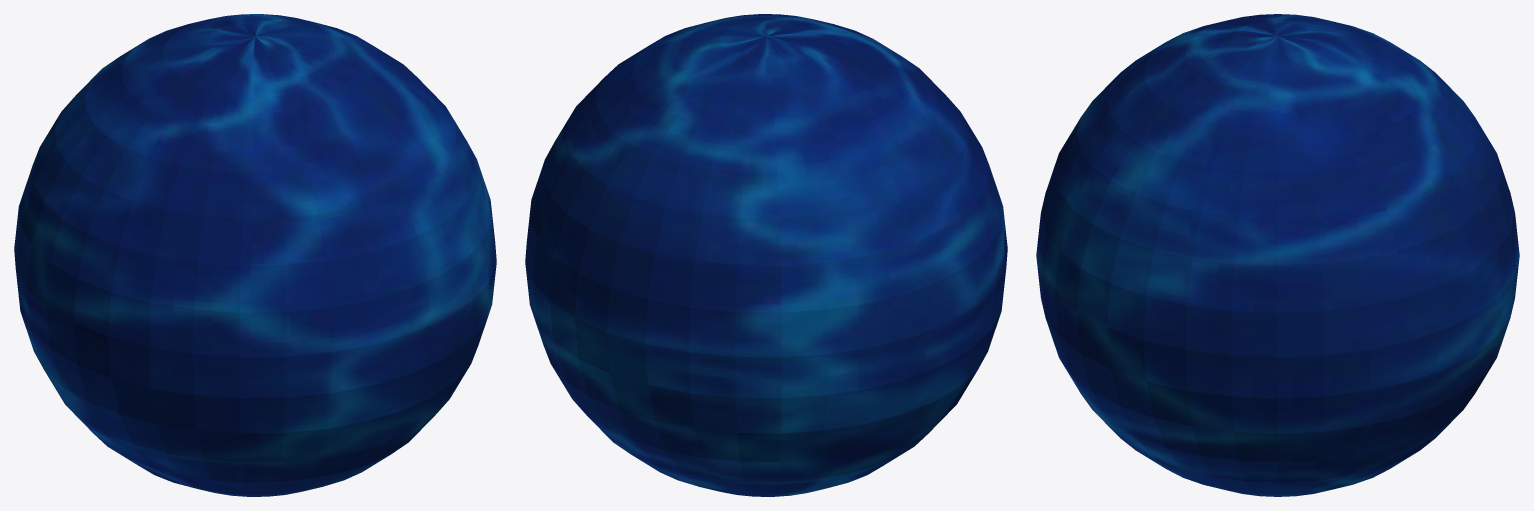
The model's file is terepot2.fbx.
3 views of the same model, side by side, from view 1: azimuth 30°, elevation 25°; view 2: azimuth 150°, elevation 25°; view 3: azimuth 270°, elevation 25° (orthographic).
Parts seen in each view (by area): view 1: terepot; view 2: terepot; view 3: terepot.
Part boxes in pixels (x1=…): terepot: x1=14, y1=14, x2=496, y2=496; terepot: x1=525, y1=14, x2=1007, y2=496; terepot: x1=1036, y1=14, x2=1519, y2=496.
Bounding box in the file's own units: 45.98 × 45.98 × 45.98.
1 material, 1 textured.
